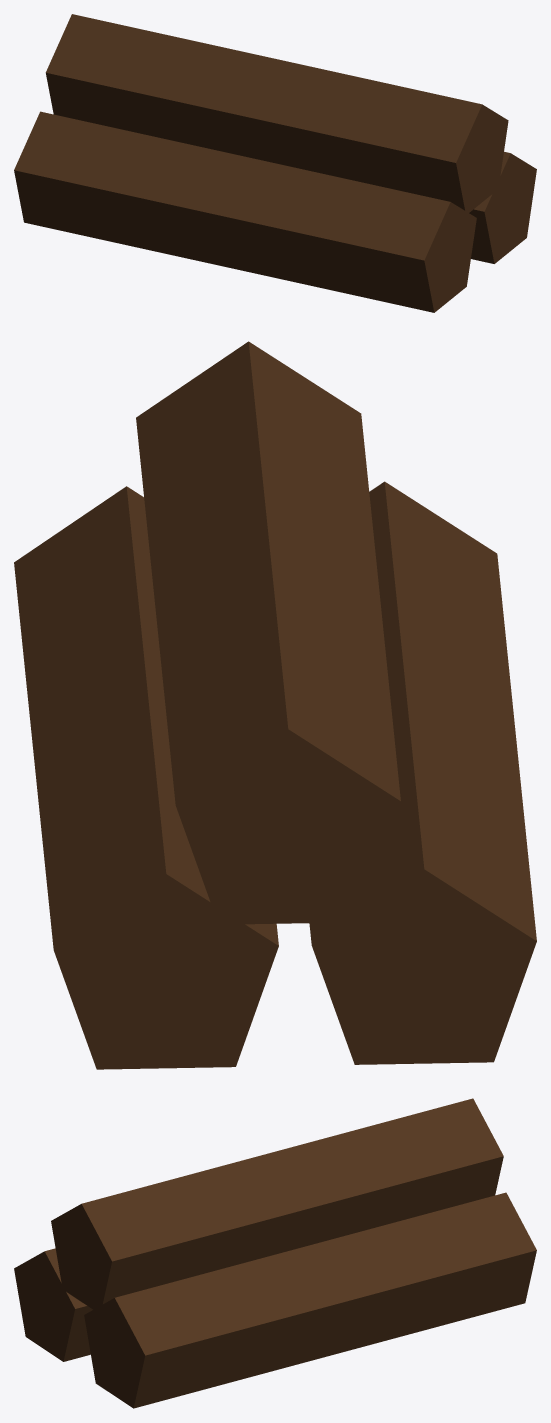
Rendered from Human-SawMill.fbx.
3 renders of one model, top to bottom at view 1: azimuth 30°, elevation 25°; view 2: azimuth 150°, elevation 25°; view 3: azimuth 270°, elevation 25°, orthographic. The views are drawn at different scales.
Visible parts, largest first — view 1: Human-Sawmill; view 2: Human-Sawmill; view 3: Human-Sawmill.
Boxes of the visible parts, x1=… form: Human-Sawmill: x1=14, y1=14, x2=536, y2=312; Human-Sawmill: x1=14, y1=341, x2=536, y2=1069; Human-Sawmill: x1=14, y1=1098, x2=536, y2=1408.
Size of the model in its own units: 0.294 by 0.3375 by 0.1213.
